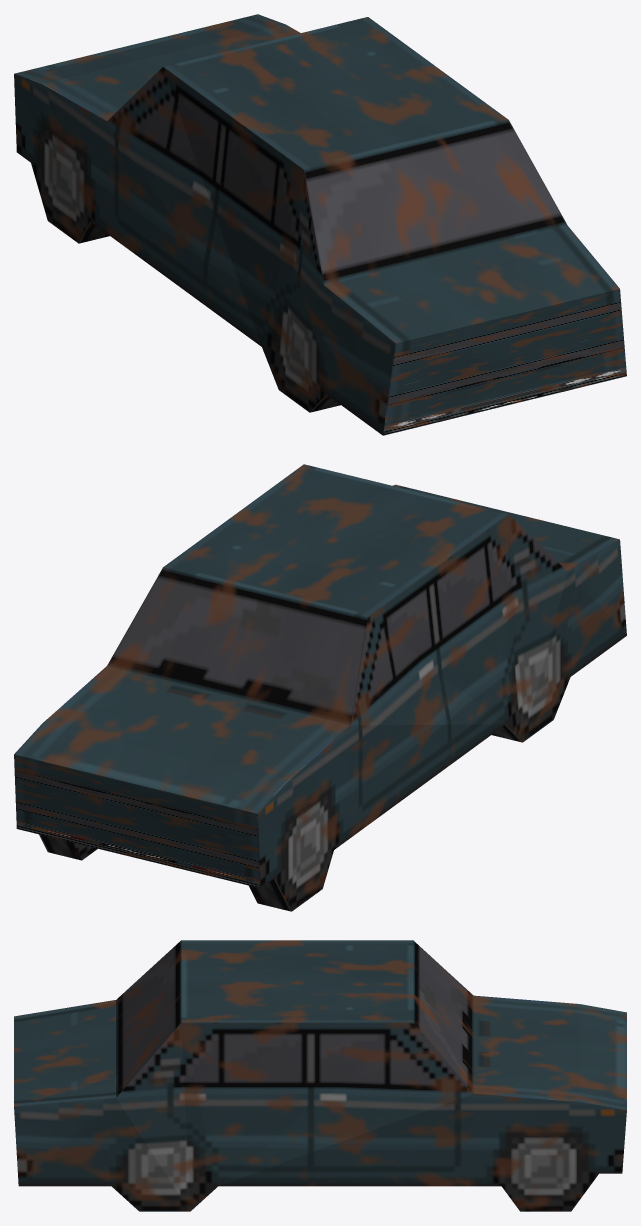
Rendered from prop_car3.glb.
The picture shows the model from 3 angles, top to bottom: view 1: azimuth 30°, elevation 25°; view 2: azimuth 150°, elevation 25°; view 3: azimuth 270°, elevation 25°; orthographic projection. The views are drawn at different scales.
Parts seen in each view (by area): view 1: hull; view 2: hull; view 3: hull.
Boxes of the visible parts, x1,y1,x2,y2 form: hull: [14, 14, 626, 435]; hull: [14, 464, 626, 911]; hull: [14, 940, 626, 1211].
Size of the model in its own units: 0.8712 by 0.7492 by 2.3.
Materials: 1 (1 with a texture image).
